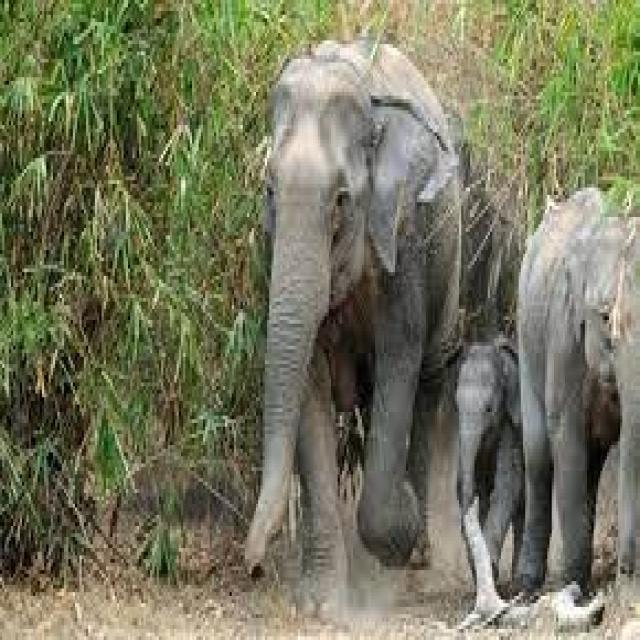Elephant: (236, 32, 466, 608), (503, 160, 640, 606), (433, 320, 530, 633)
